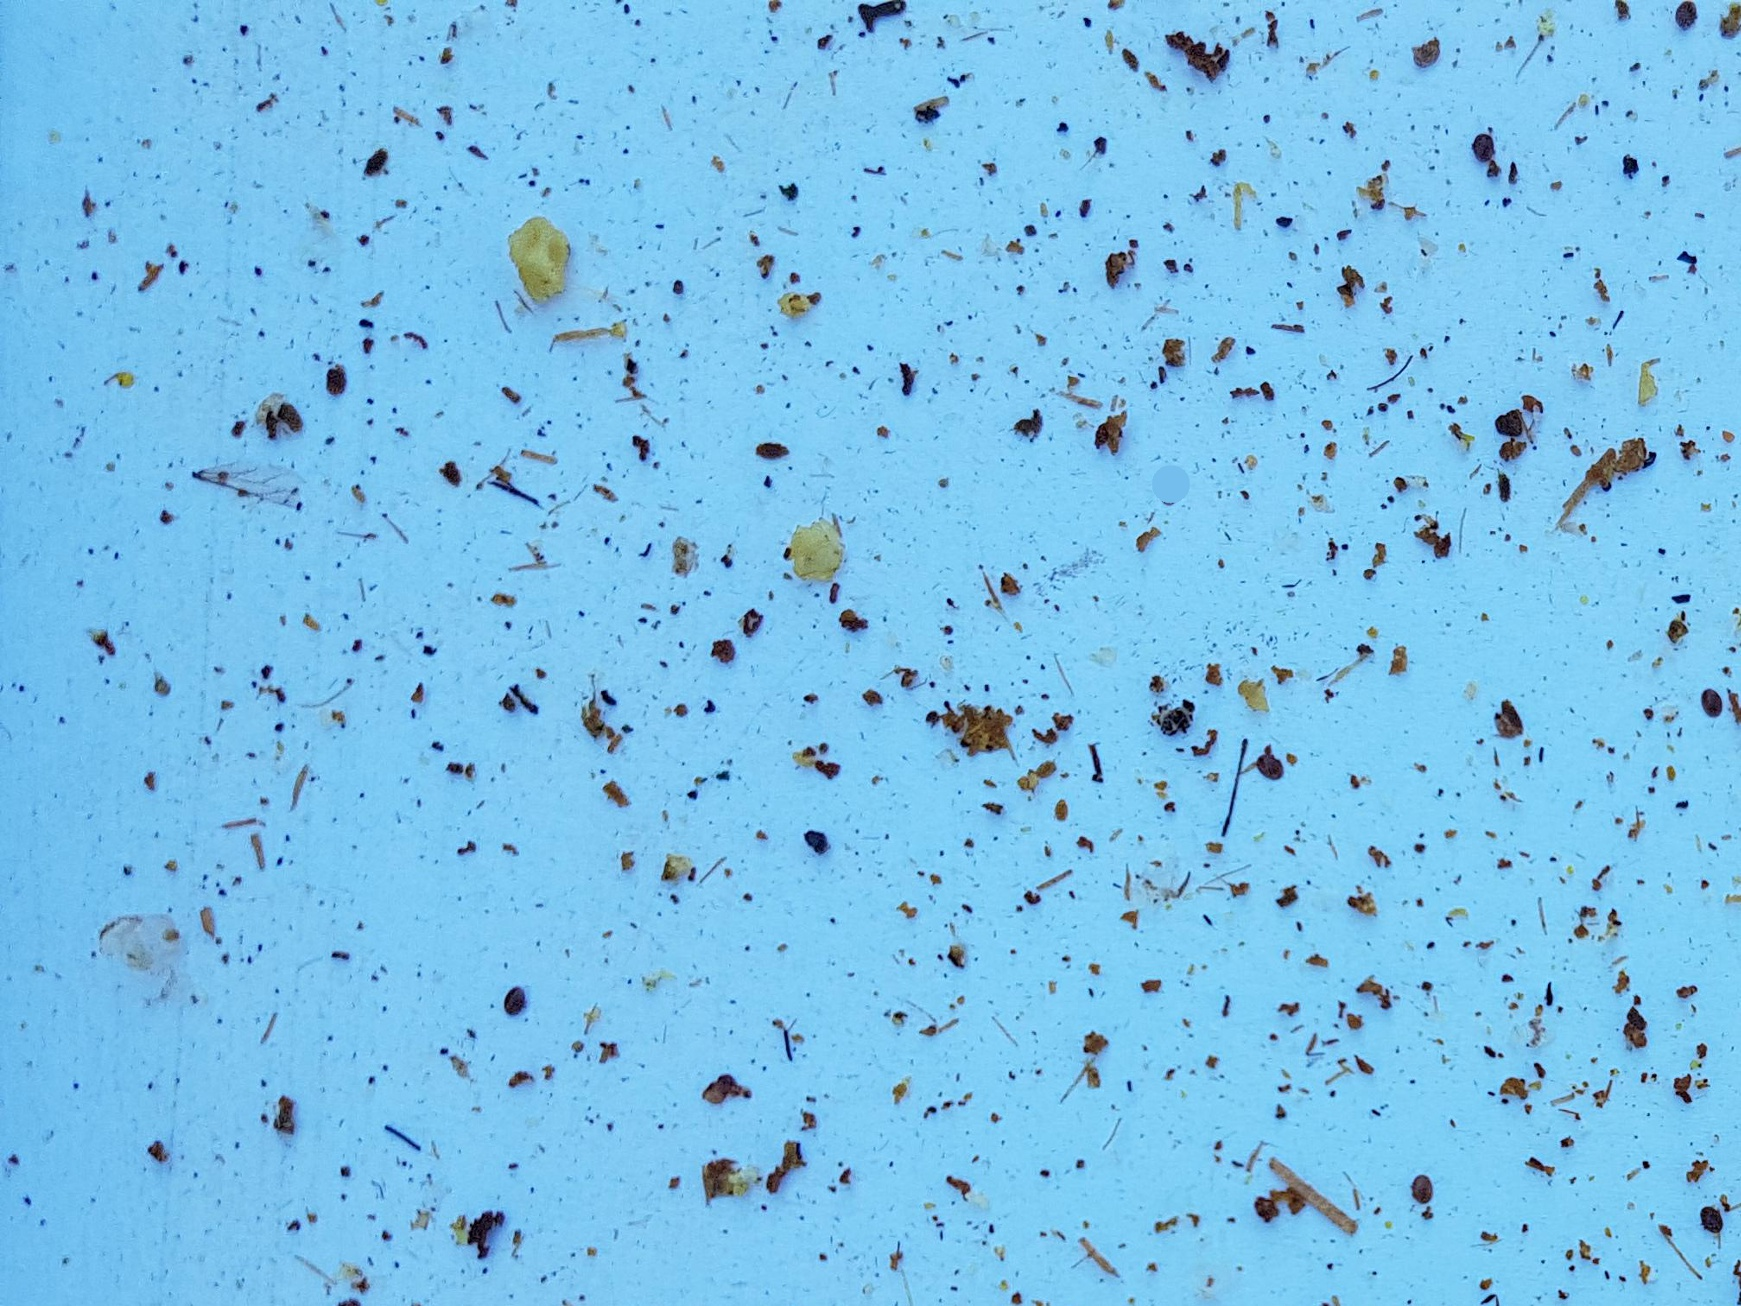Varroa: (498, 995, 530, 1025), (1408, 1177, 1435, 1204), (1467, 134, 1493, 163), (1697, 689, 1725, 715), (1698, 1203, 1725, 1231), (1264, 755, 1288, 782), (1672, 7, 1693, 30)
